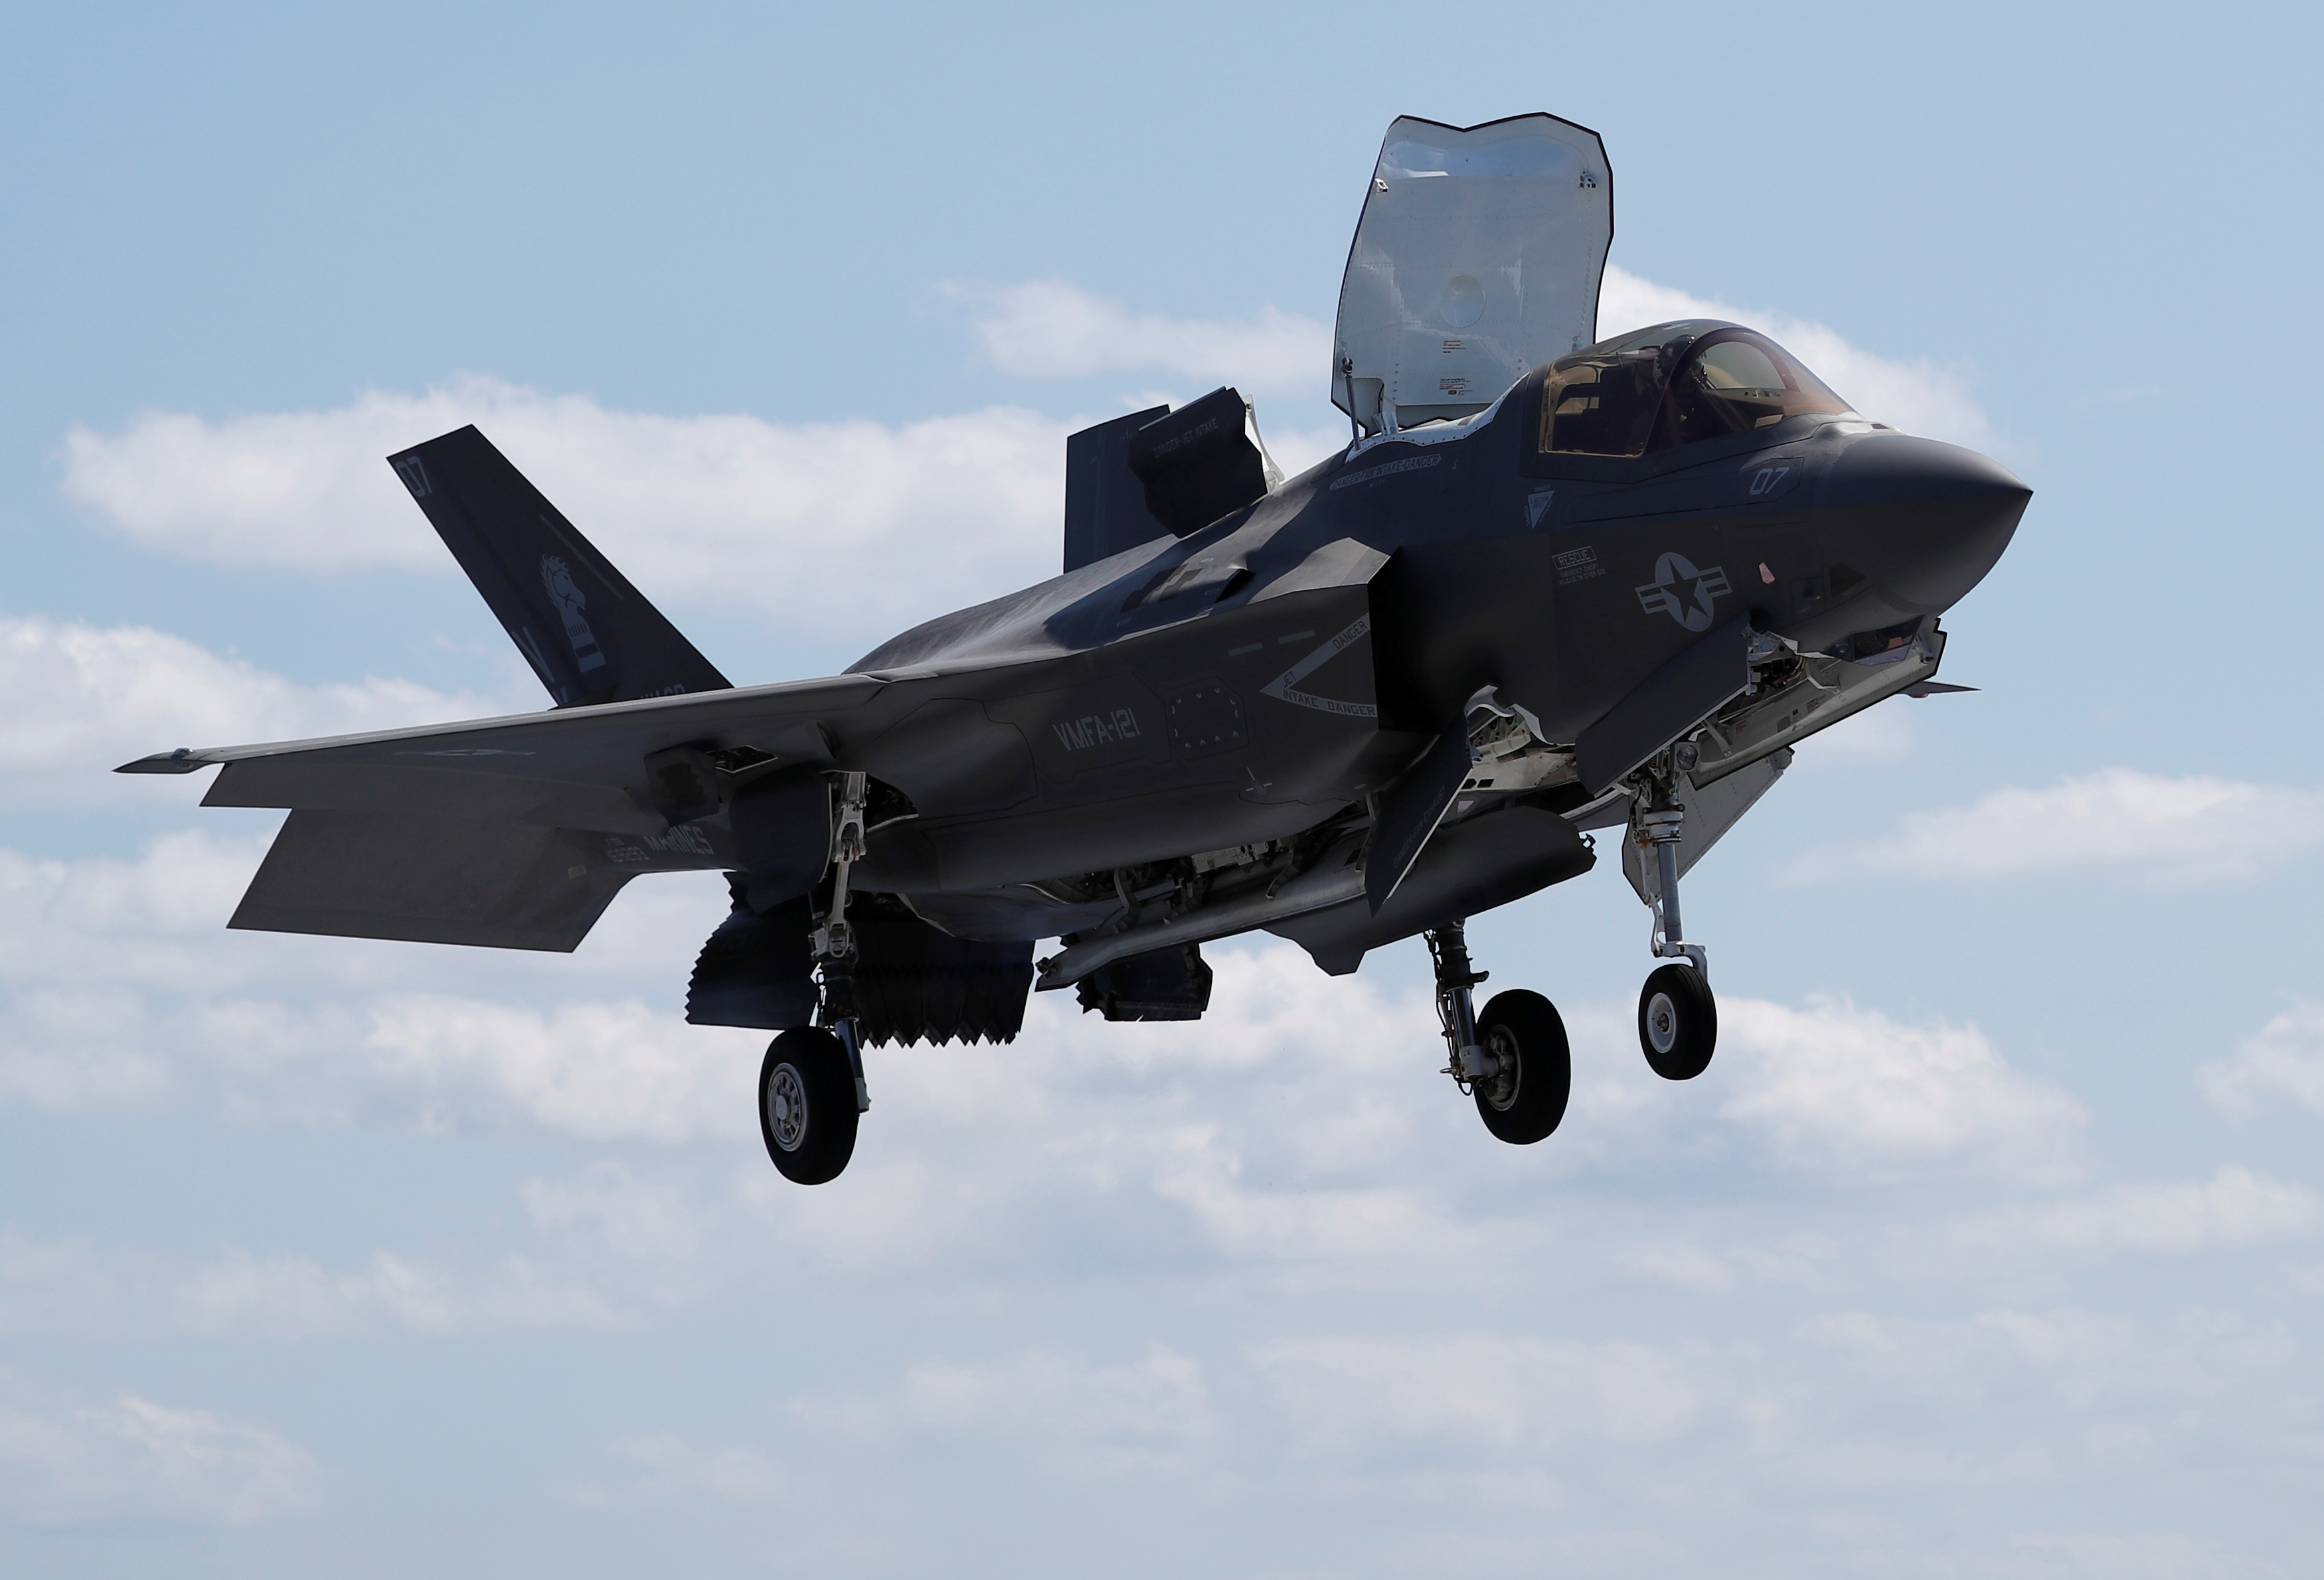F-35 Lightning: (134, 86, 2067, 1264)
